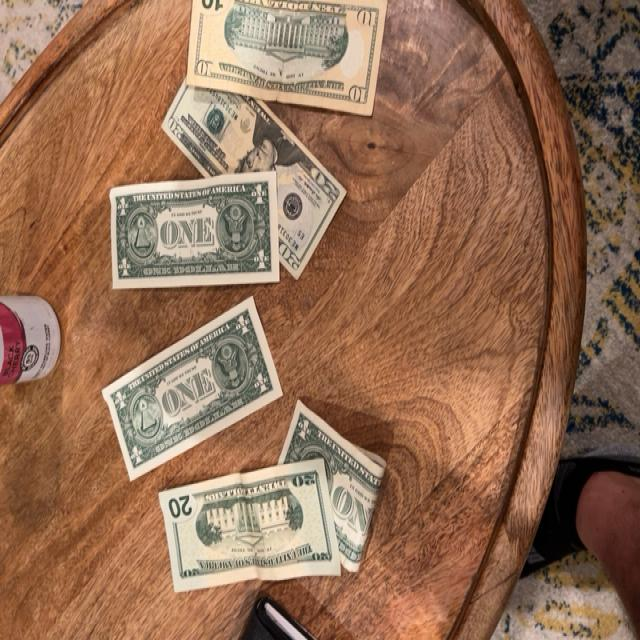one: (101, 294, 284, 482), (110, 171, 280, 290), (278, 399, 388, 575)
ten: (185, 0, 387, 117)
twenty: (161, 75, 347, 281), (157, 458, 343, 595)
